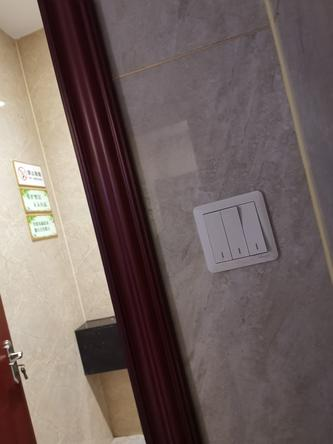switch: (237, 198, 272, 258), (203, 205, 232, 267), (217, 201, 246, 261)
